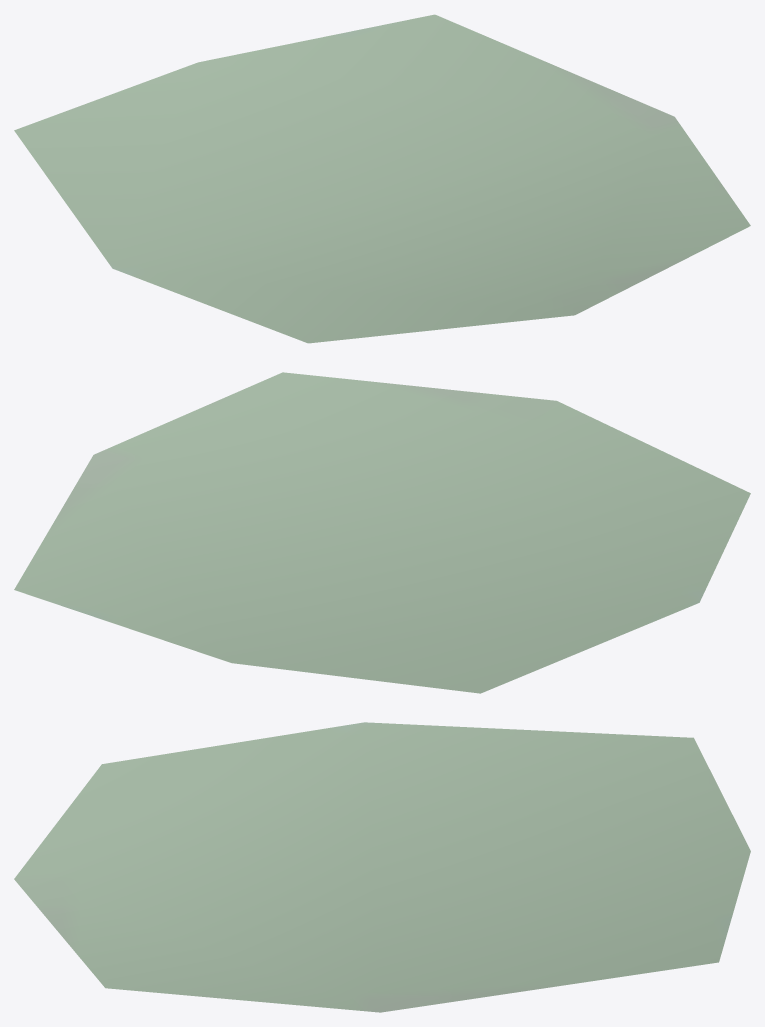
The model's file is TROLLHOLE02_HOLECAP48.fbx.
3 views of the same model, one above another, from view 1: azimuth 30°, elevation 25°; view 2: azimuth 150°, elevation 25°; view 3: azimuth 270°, elevation 25° (orthographic). The views are drawn at different scales.
Visible parts, largest first — view 1: TROLLHOLE02_HOLECAP48; view 2: TROLLHOLE02_HOLECAP48; view 3: TROLLHOLE02_HOLECAP48.
Boxes of the visible parts, x1,y1,x2,y2 form: TROLLHOLE02_HOLECAP48: (14, 14, 750, 343); TROLLHOLE02_HOLECAP48: (14, 372, 750, 693); TROLLHOLE02_HOLECAP48: (14, 722, 750, 1012).
Size of the model in its own units: 26401 by 771 by 27567.
1 material, 1 textured.
